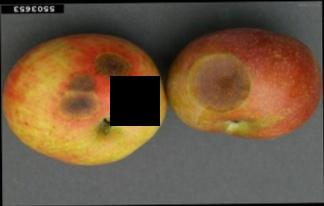rotten apple: (1, 22, 167, 167), (165, 25, 322, 143)
